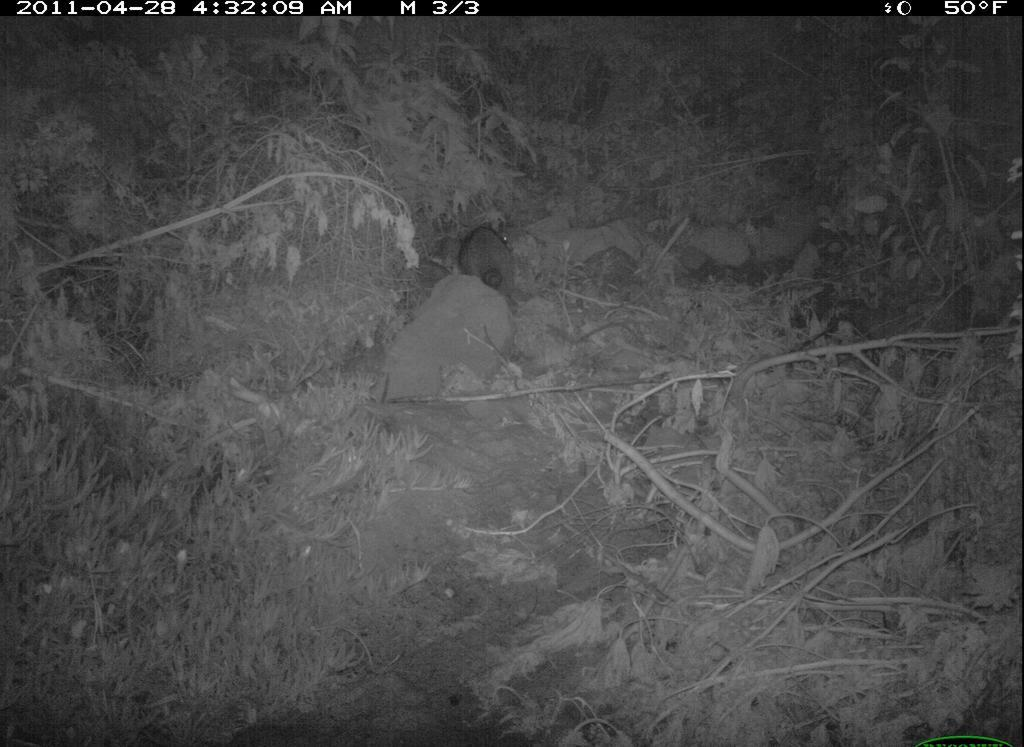raccoon: (440, 218, 527, 304)
